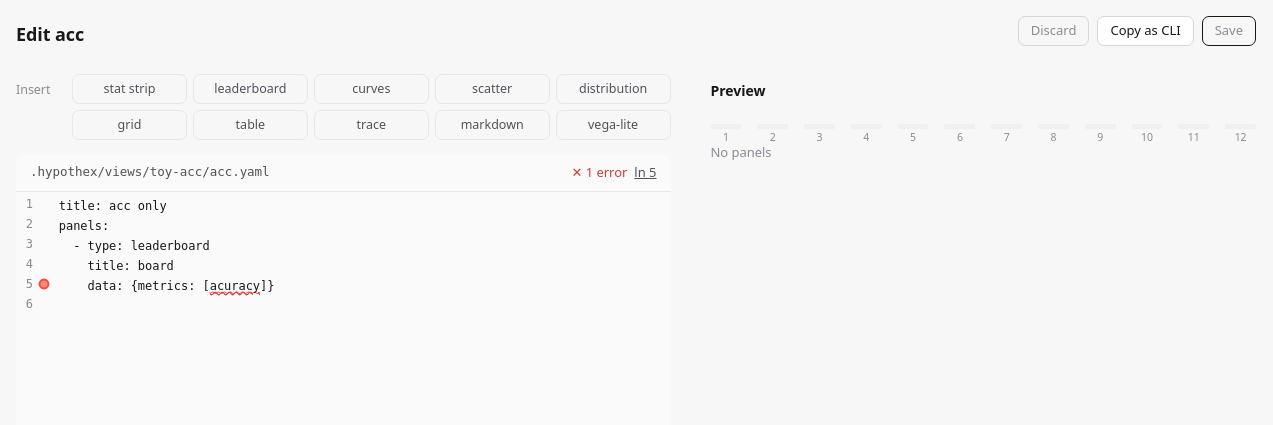
Test case: ViewEditor › an invalid view marks the line, blocks Save, and Discard restores the text
Check: the button "ln 5" is shown, box [634,163,656,182]
Check: the text box with class "cm-lintRange-error" reads "acuracy", box [210,279,260,293]
What coordinates should you click on to do the following:
click the button "markdown"
I would click on:
 (492, 125)
Its box is [435,110,550,140].
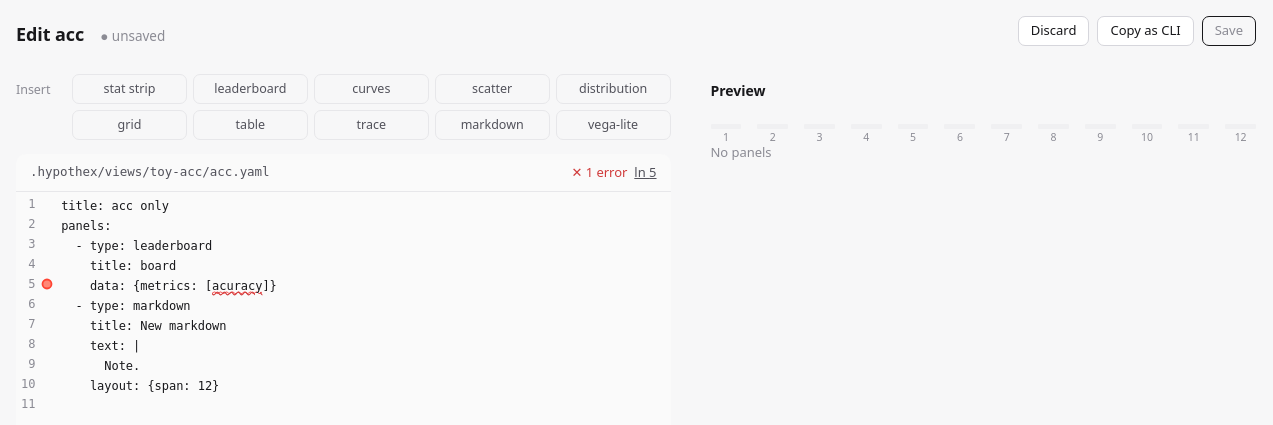
Check: the element with test id "ed-status" shows "✕ 1 error", box [16,154,670,192]
Check: the text "● unsaved" is shown, box [100,30,165,43]
What coordinates should you click on to do the following:
click the button "Discard"
I would click on:
 (1054, 31)
Its box is [1018,16,1089,46].
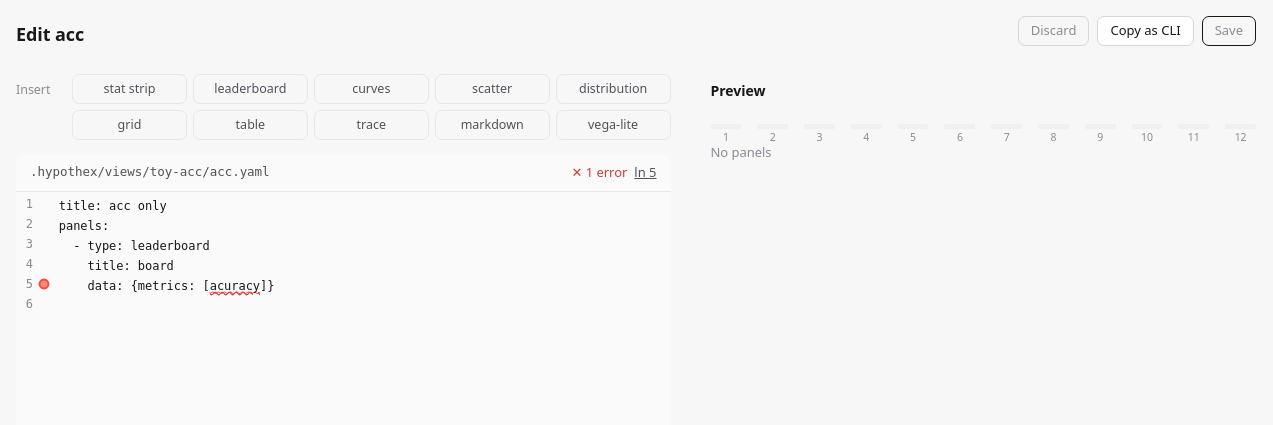
Check: the text "● unsaved" is gone
Check: the button "Discard" is disabled, box [1018,16,1089,46]
